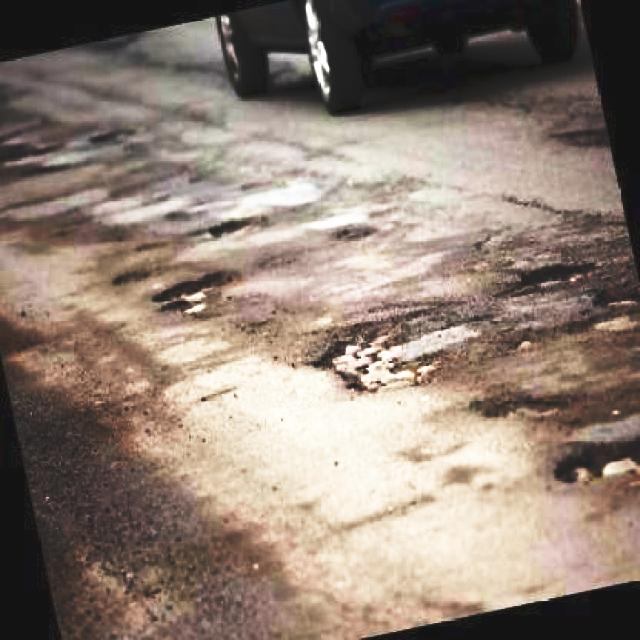pothole: (312, 328, 437, 392), (554, 434, 640, 484), (572, 285, 640, 340), (155, 268, 234, 314), (503, 255, 591, 292), (474, 392, 569, 423), (554, 118, 606, 156), (208, 210, 262, 242), (338, 218, 380, 244)
